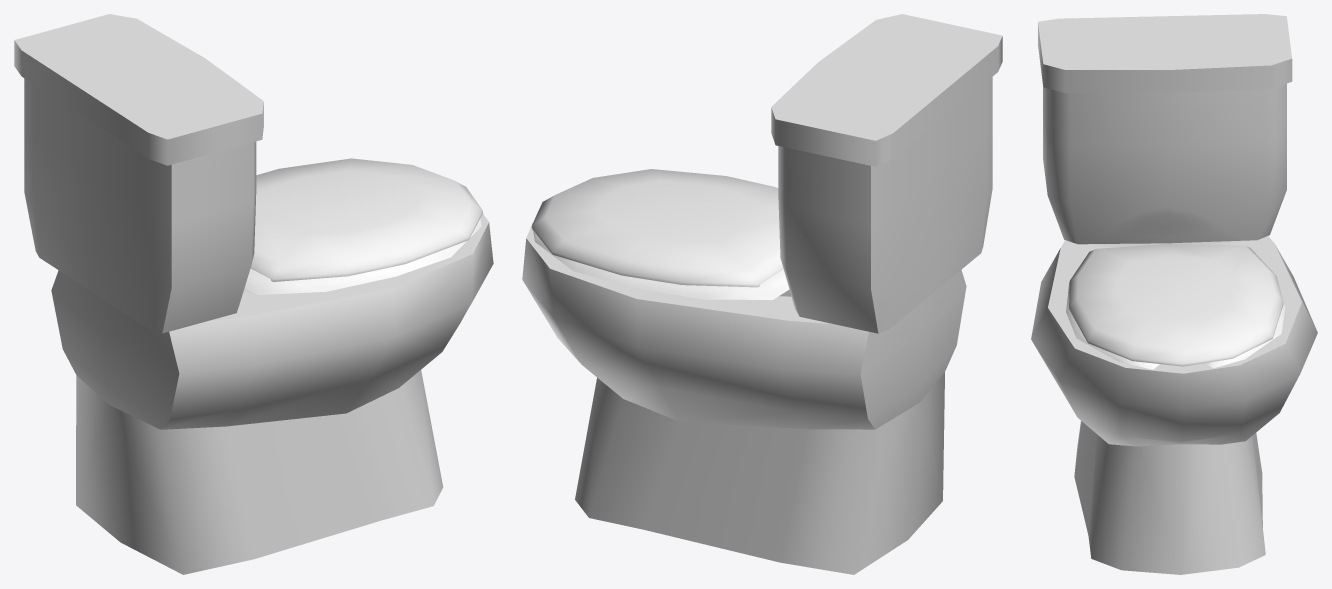
Rendered from ToiletSeat.fbx.
The picture shows the model from 3 angles, left to right: view 1: azimuth 30°, elevation 25°; view 2: azimuth 150°, elevation 25°; view 3: azimuth 270°, elevation 25°; orthographic projection. The views are drawn at different scales.
Visible parts, largest first — view 1: U_ToiletSeat; view 2: U_ToiletSeat; view 3: U_ToiletSeat.
Part boxes in pixels (bbox=[...]): U_ToiletSeat: bbox=[14, 14, 493, 574]; U_ToiletSeat: bbox=[522, 14, 1002, 574]; U_ToiletSeat: bbox=[1031, 14, 1317, 574].
Size of the model in its own units: 107 by 117 by 74.34.
1 material, 1 textured.
